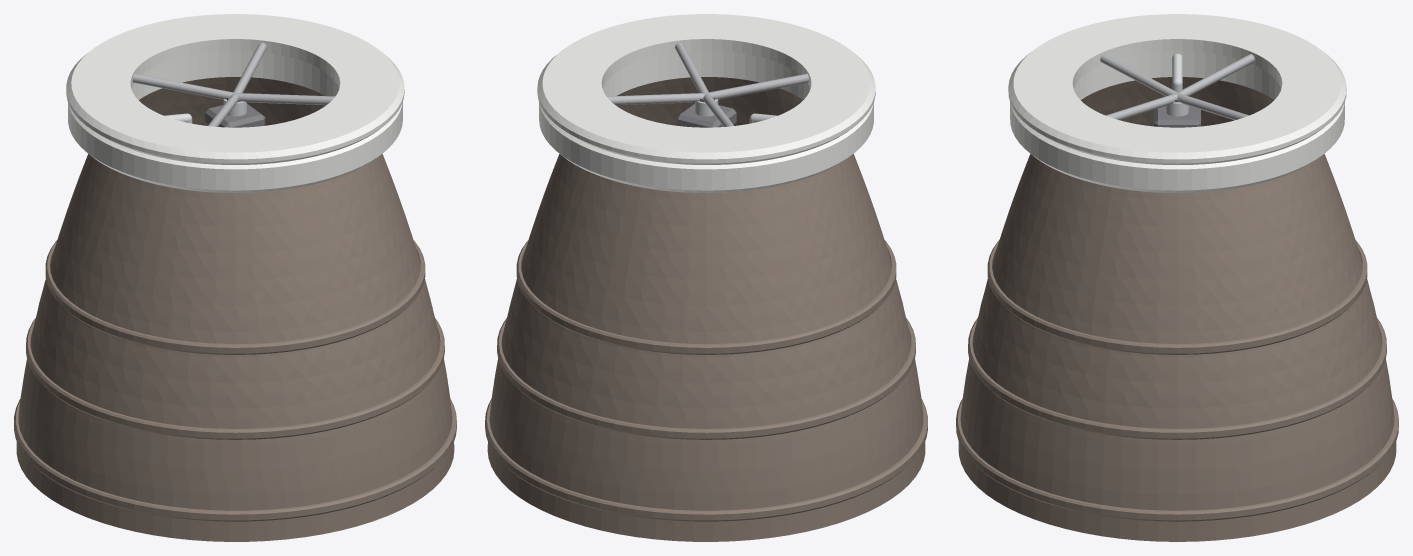
The model's file is ax_prop_10_hydrolox_vac_s.glb.
3 views of the same model, side by side, from view 1: azimuth 30°, elevation 25°; view 2: azimuth 150°, elevation 25°; view 3: azimuth 270°, elevation 25° (orthographic).
Parts seen in each view (by area): view 1: nozzle_extension, mount_ring, extension_hoops, thermal_blanket_ring, thrust_struts, gimbal; view 2: nozzle_extension, mount_ring, extension_hoops, thermal_blanket_ring, thrust_struts, gimbal; view 3: nozzle_extension, mount_ring, extension_hoops, thermal_blanket_ring, thrust_struts, gimbal.
Part boxes in pixels (<box>): nozzle_extension: <box>16,77,454,541</box>; mount_ring: <box>66,14,404,164</box>; extension_hoops: <box>14,240,456,521</box>; thermal_blanket_ring: <box>68,50,402,192</box>; thrust_struts: <box>133,42,335,126</box>; gimbal: <box>205,97,265,127</box>; nozzle_extension: <box>487,77,925,541</box>; mount_ring: <box>537,14,875,164</box>; extension_hoops: <box>485,240,927,521</box>; thermal_blanket_ring: <box>539,50,873,192</box>; thrust_struts: <box>606,42,808,126</box>; gimbal: <box>676,97,736,127</box>; nozzle_extension: <box>958,77,1396,541</box>; mount_ring: <box>1008,14,1346,164</box>; extension_hoops: <box>956,240,1398,521</box>; thermal_blanket_ring: <box>1010,51,1344,192</box>; thrust_struts: <box>1100,54,1254,120</box>; gimbal: <box>1154,99,1200,127</box>.
Size of the model in its own units: 1.64 by 1.49 by 1.64.
